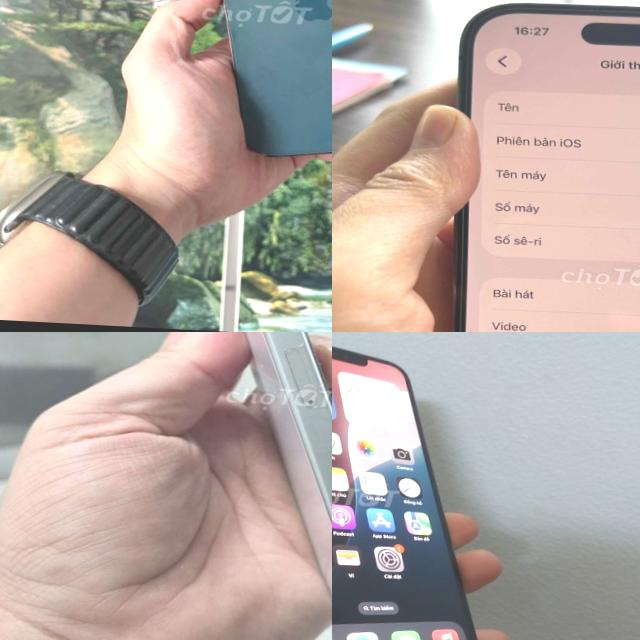gen_11: (332, 347, 476, 640)
gen_12_13: (196, 0, 332, 168)
gen_14: (433, 0, 640, 332)
gen_16: (245, 332, 332, 596)
